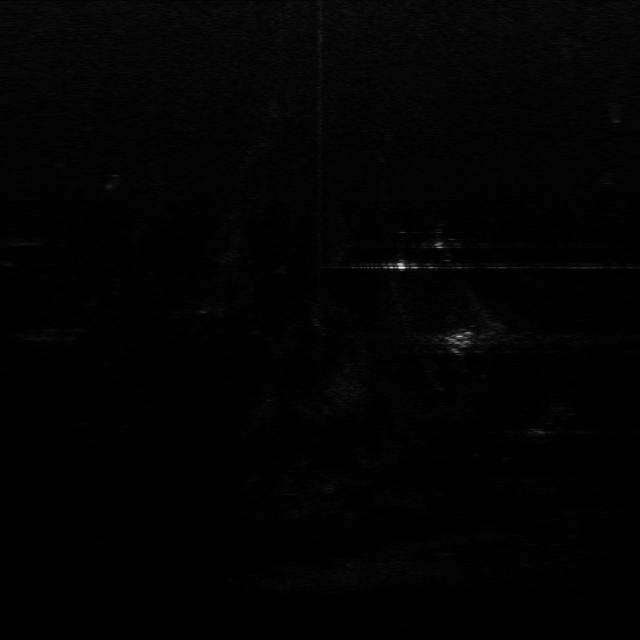rov: (444, 328, 480, 354)
